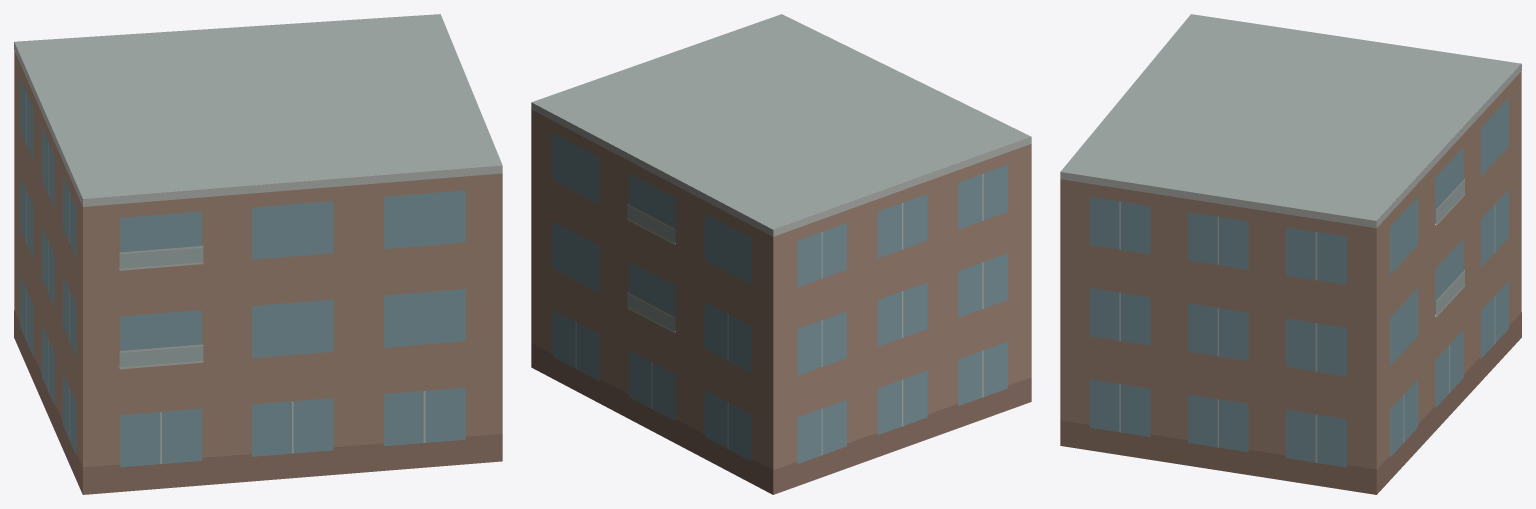
File: survey-upis-32776733.glb
The picture shows the model from 3 angles, left to right: view 1: azimuth 30°, elevation 25°; view 2: azimuth 150°, elevation 25°; view 3: azimuth 270°, elevation 25°; orthographic projection. The views are drawn at different scales.
Visible parts, largest first — view 1: survey-upis-32776733.tmp; view 2: survey-upis-32776733.tmp; view 3: survey-upis-32776733.tmp.
Boxes of the visible parts, <box> form: survey-upis-32776733.tmp: <box>14,14,502,494</box>; survey-upis-32776733.tmp: <box>531,14,1031,494</box>; survey-upis-32776733.tmp: <box>1060,14,1521,494</box>.
Bounding box in the file's own units: 14.84 × 9.15 × 13.98.
